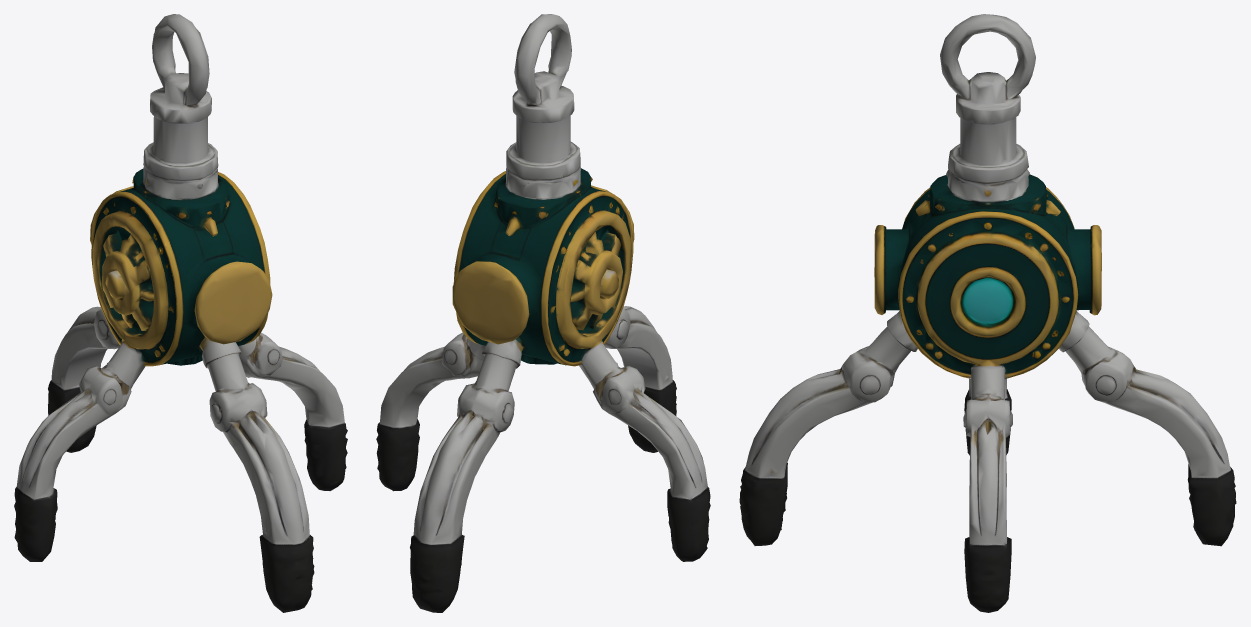
Rendered from claw-arm.glb.
3 views of the same model, side by side, from view 1: azimuth 30°, elevation 25°; view 2: azimuth 150°, elevation 25°; view 3: azimuth 270°, elevation 25° (orthographic). The views are drawn at different scales.
Parts seen in each view (by area): view 1: tripo_node_c8a30ed7-0604-4138-bff0-bbb58fc7977f; view 2: tripo_node_c8a30ed7-0604-4138-bff0-bbb58fc7977f; view 3: tripo_node_c8a30ed7-0604-4138-bff0-bbb58fc7977f.
Part boxes in pixels (x1,y1,x2,y2): tripo_node_c8a30ed7-0604-4138-bff0-bbb58fc7977f: (14,14,347,612); tripo_node_c8a30ed7-0604-4138-bff0-bbb58fc7977f: (376,14,710,612); tripo_node_c8a30ed7-0604-4138-bff0-bbb58fc7977f: (739,14,1236,612).
Bounding box in the file's own units: 0.6606 × 1 × 0.8496.
1 material, 1 textured.
